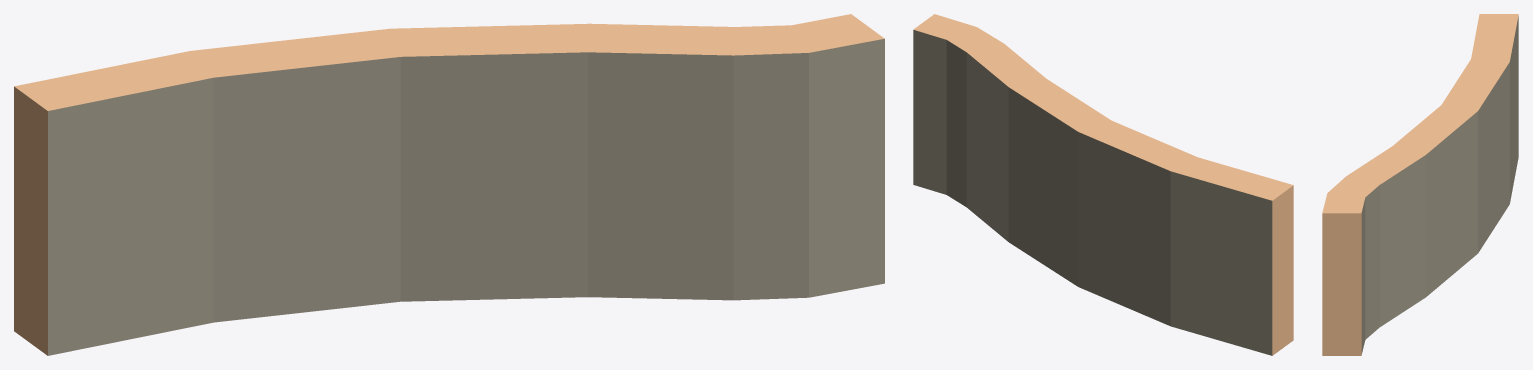
Rendered from Tiered_Retaining_Wall_Esse_2x3_Mid.glb.
3 views of the same model, side by side, from view 1: azimuth 30°, elevation 25°; view 2: azimuth 150°, elevation 25°; view 3: azimuth 270°, elevation 25° (orthographic). The views are drawn at different scales.
Visible parts, largest first — view 1: Tiered_Retaining_Wall_Esse_2x3_Mid; view 2: Tiered_Retaining_Wall_Esse_2x3_Mid; view 3: Tiered_Retaining_Wall_Esse_2x3_Mid.
Part boxes in pixels (bbox=[...]): Tiered_Retaining_Wall_Esse_2x3_Mid: bbox=[14, 14, 884, 355]; Tiered_Retaining_Wall_Esse_2x3_Mid: bbox=[913, 14, 1293, 355]; Tiered_Retaining_Wall_Esse_2x3_Mid: bbox=[1322, 14, 1518, 355].
Size of the model in its own units: 300 by 100 by 125.
